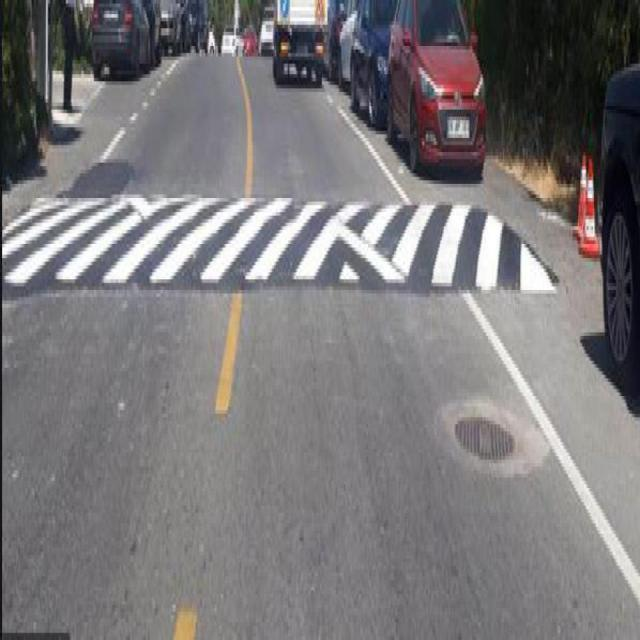speedbreaker: (0, 189, 562, 303)
